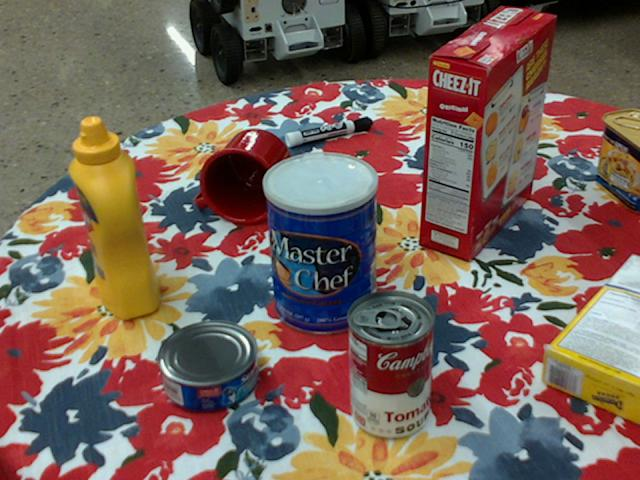cracker_box: (423, 8, 556, 260)
gelatin_box: (443, 109, 510, 159)
large_marker: (283, 114, 371, 146)
master_chef_can: (262, 152, 376, 335)
mug: (194, 128, 289, 226)
mustard_bottle: (69, 117, 161, 319)
potted_meat_can: (595, 108, 639, 212)
sugar_box: (542, 254, 639, 423)
tomato_soup_can: (347, 289, 434, 439)
tuna_fish_can: (154, 320, 256, 411)
